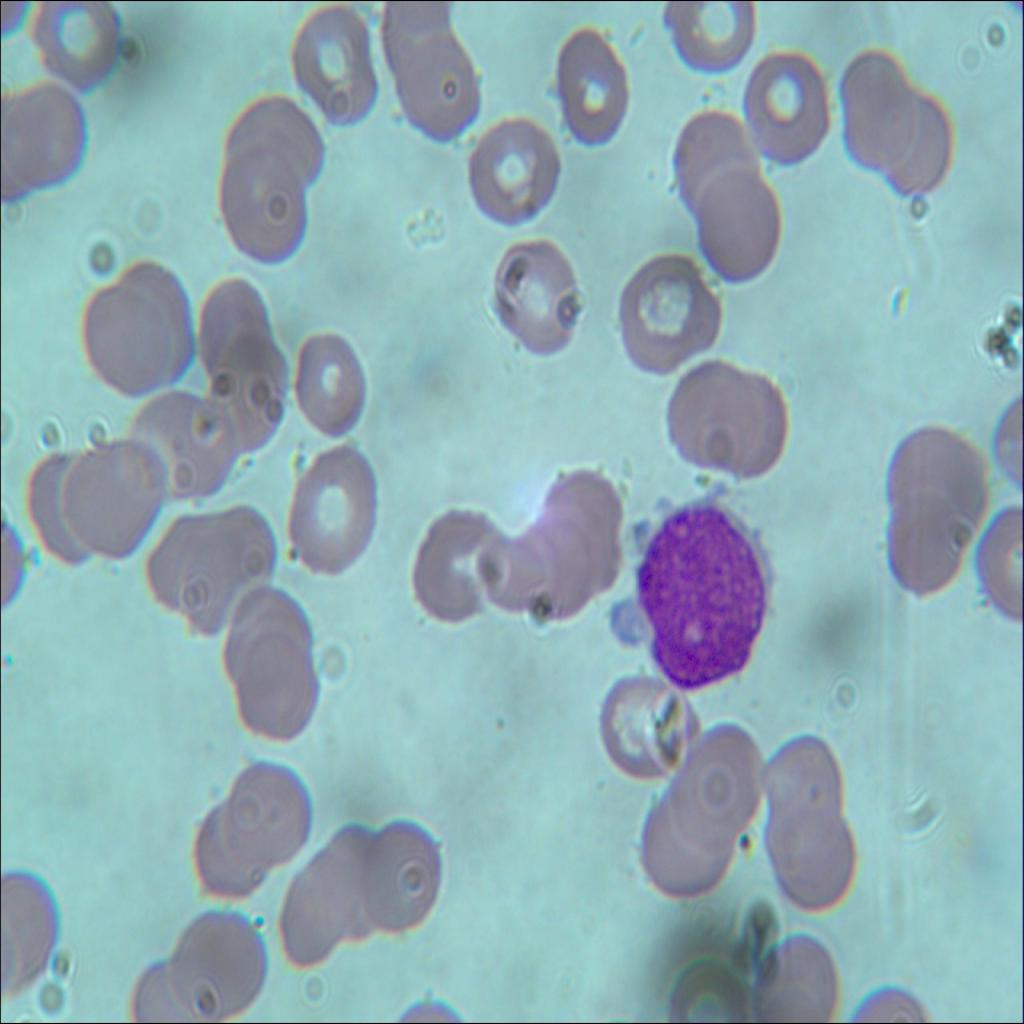Eritrosit: (606, 251, 726, 367), (486, 228, 589, 358), (71, 275, 175, 395), (288, 1, 382, 131), (292, 444, 378, 580), (168, 904, 266, 1023), (409, 498, 503, 622), (221, 138, 313, 264), (134, 381, 231, 498), (888, 420, 989, 532), (668, 721, 761, 842), (16, 435, 98, 571), (68, 440, 162, 558), (539, 465, 623, 594), (598, 671, 696, 781), (695, 167, 784, 287), (662, 109, 762, 215), (468, 108, 558, 224), (193, 502, 275, 628), (638, 792, 734, 898), (744, 50, 828, 171), (228, 91, 326, 194), (762, 807, 858, 912), (556, 20, 633, 148), (666, 357, 756, 465), (218, 584, 314, 685), (838, 48, 914, 174), (26, 0, 128, 92), (239, 630, 322, 740), (146, 512, 226, 625), (0, 81, 86, 185), (889, 488, 970, 598), (363, 817, 441, 931), (296, 328, 370, 442), (764, 734, 838, 847), (402, 37, 479, 145), (516, 509, 590, 621), (278, 850, 350, 965), (229, 761, 309, 864), (719, 370, 793, 481), (212, 337, 286, 447), (656, 0, 756, 81), (881, 98, 958, 202), (191, 284, 274, 378), (754, 931, 838, 1023), (193, 799, 266, 901), (318, 821, 380, 941), (475, 518, 541, 612), (378, 0, 446, 79)
Limfoblast: (623, 498, 775, 696)
